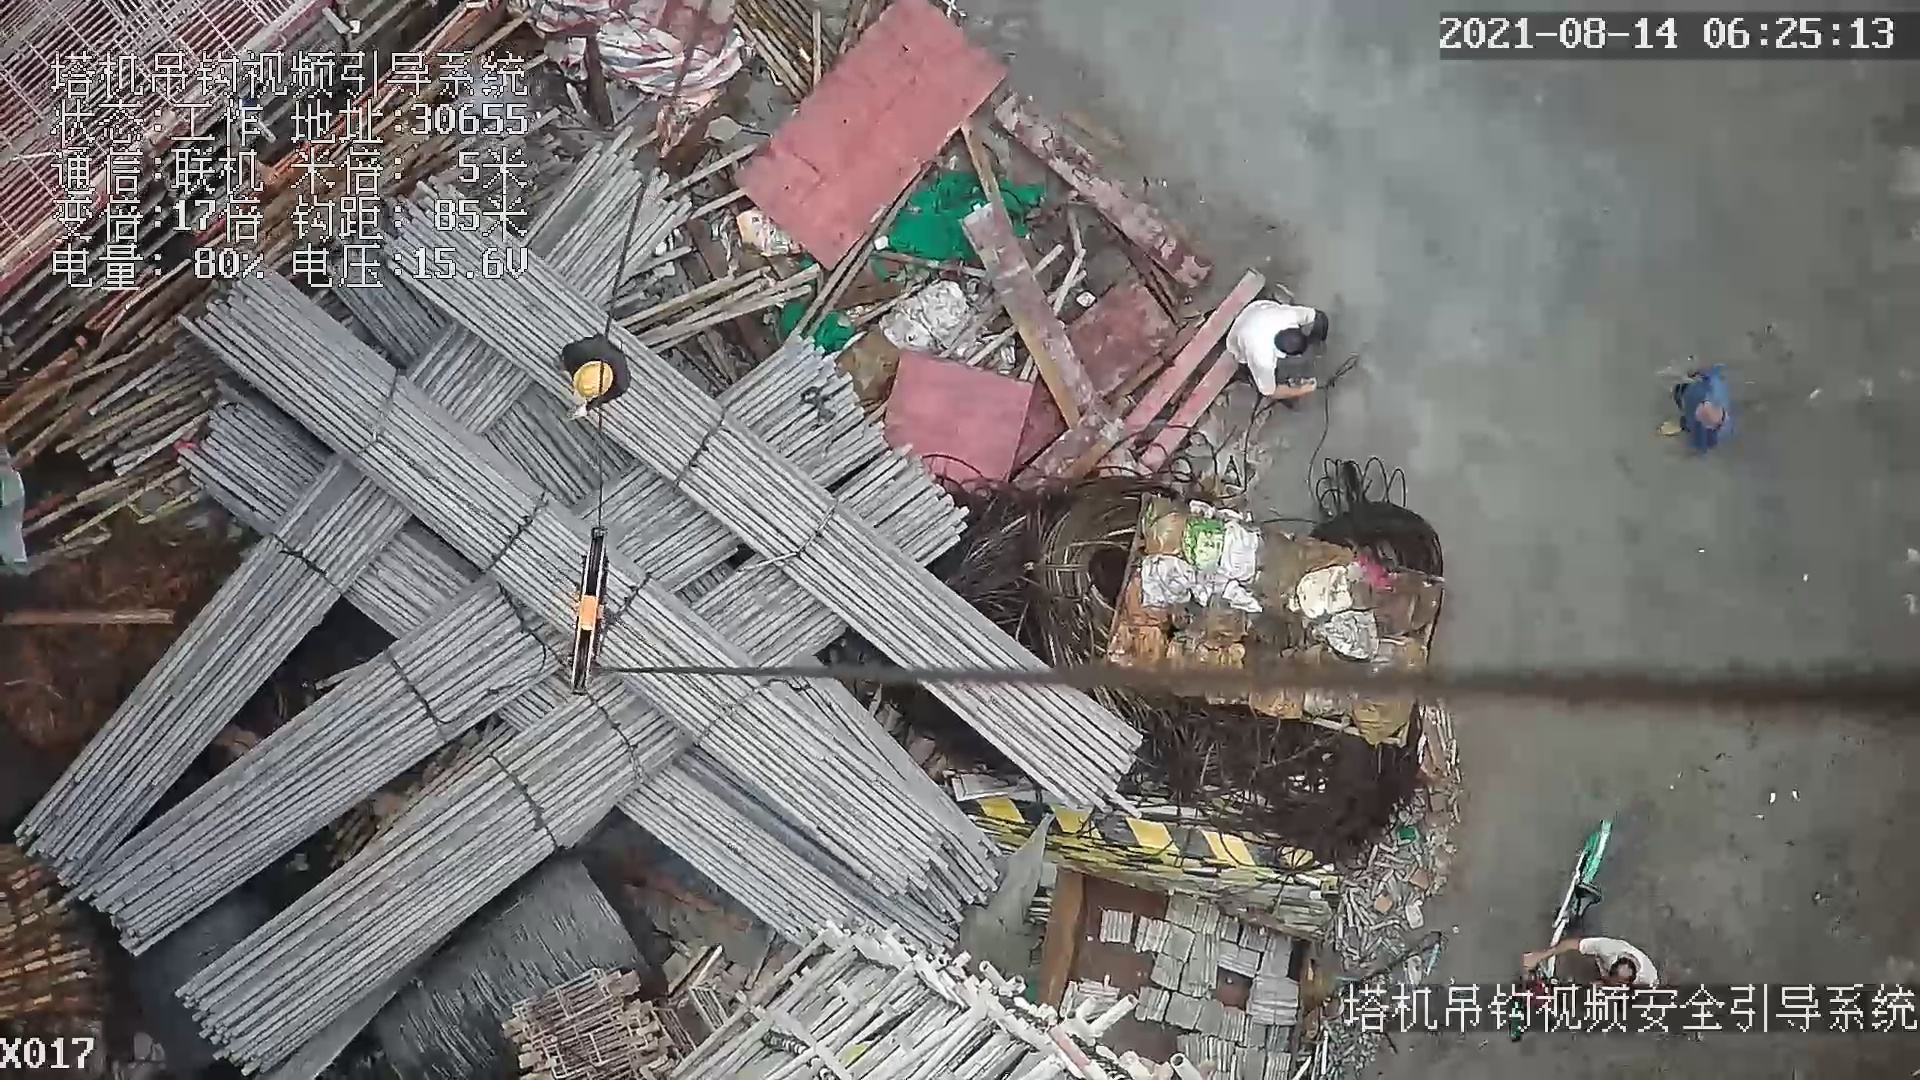helmet: (570, 359, 613, 400)
hook: (563, 515, 618, 692)
person: (1222, 297, 1332, 401), (1519, 931, 1673, 1000), (1645, 354, 1736, 447), (558, 326, 635, 422)
